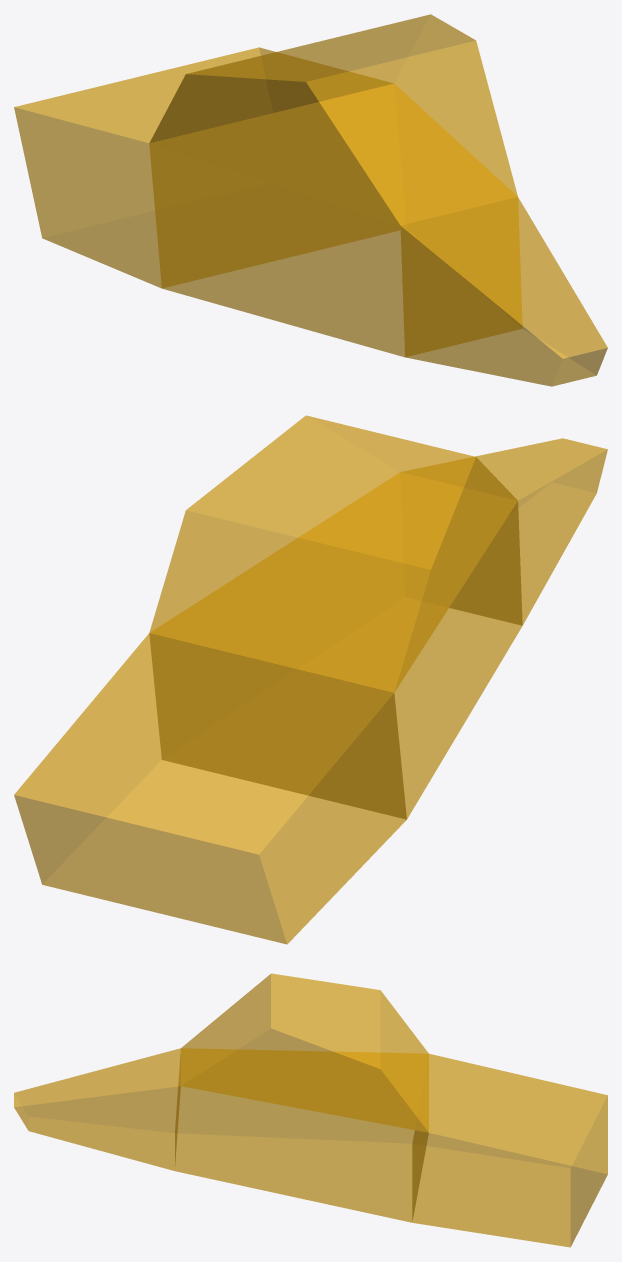
Rendered from SM_Veh_Ship_M_Ram_02_Collision.fbx.
3 renders of one model, top to bottom at view 1: azimuth 30°, elevation 25°; view 2: azimuth 150°, elevation 25°; view 3: azimuth 270°, elevation 25°, orthographic. The views are drawn at different scales.
Parts seen in each view (by area): view 1: SM_Veh_Ship_M_Ram_02_Collision; view 2: SM_Veh_Ship_M_Ram_02_Collision; view 3: SM_Veh_Ship_M_Ram_02_Collision.
Boxes of the visible parts, x1=… form: SM_Veh_Ship_M_Ram_02_Collision: x1=14, y1=14, x2=607, y2=386; SM_Veh_Ship_M_Ram_02_Collision: x1=14, y1=415, x2=607, y2=944; SM_Veh_Ship_M_Ram_02_Collision: x1=14, y1=973, x2=607, y2=1247.
Bounding box in the file's own units: 316 × 386 × 1003.
